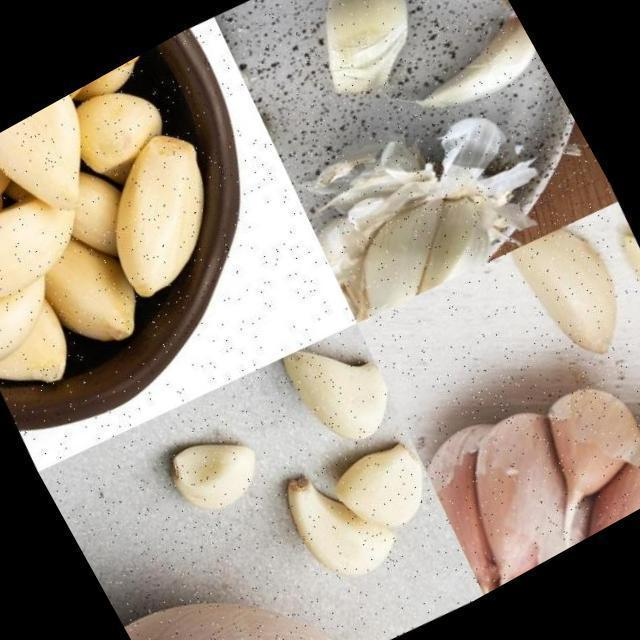garlic: (403, 336, 640, 595), (304, 140, 520, 334), (64, 115, 260, 320), (266, 416, 463, 606), (499, 211, 640, 382), (386, 8, 546, 139), (21, 223, 161, 371), (272, 319, 408, 462), (0, 93, 122, 250), (280, 0, 441, 113), (156, 415, 276, 530), (0, 225, 75, 369), (600, 224, 640, 346), (0, 134, 29, 248)
